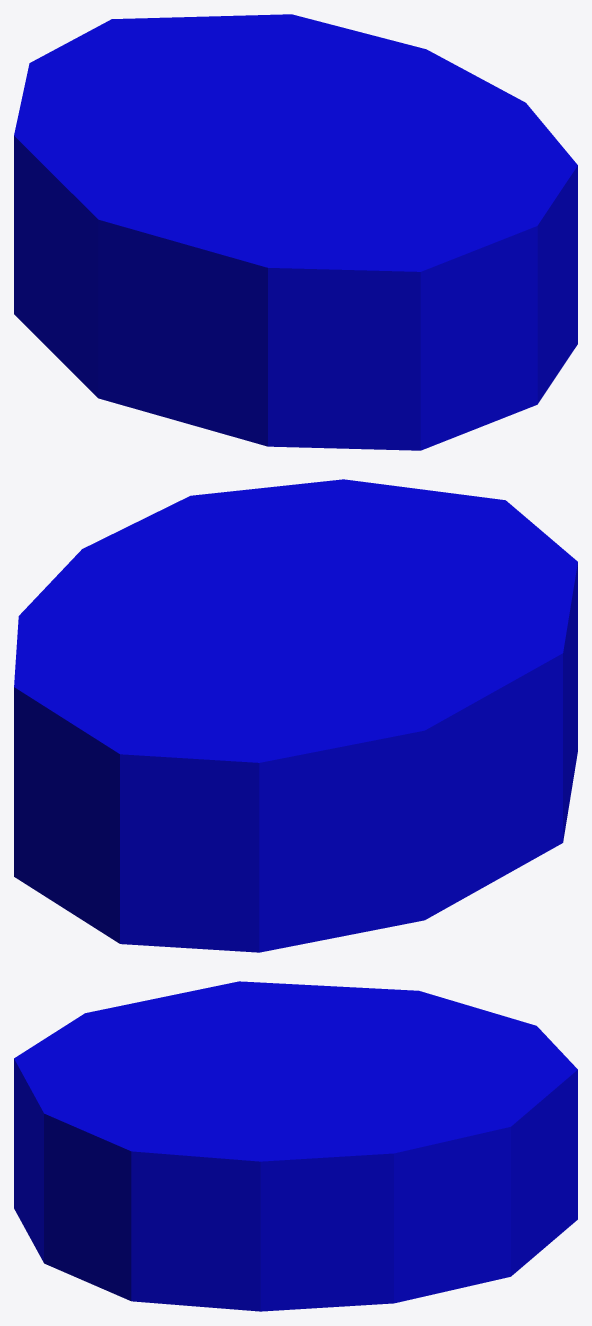
The model's file is Puzzle2Circle.fbx.
3 renders of one model, top to bottom at view 1: azimuth 30°, elevation 25°; view 2: azimuth 150°, elevation 25°; view 3: azimuth 270°, elevation 25°, orthographic. The views are drawn at different scales.
Parts seen in each view (by area): view 1: CircleBlock; view 2: CircleBlock; view 3: CircleBlock.
Boxes of the visible parts, left/top/right/bottom form: CircleBlock: left=14, top=14, right=577, bottom=450; CircleBlock: left=14, top=479, right=577, bottom=952; CircleBlock: left=14, top=981, right=577, bottom=1311.
Size of the model in its own units: 62.54 by 24.27 by 82.7.
